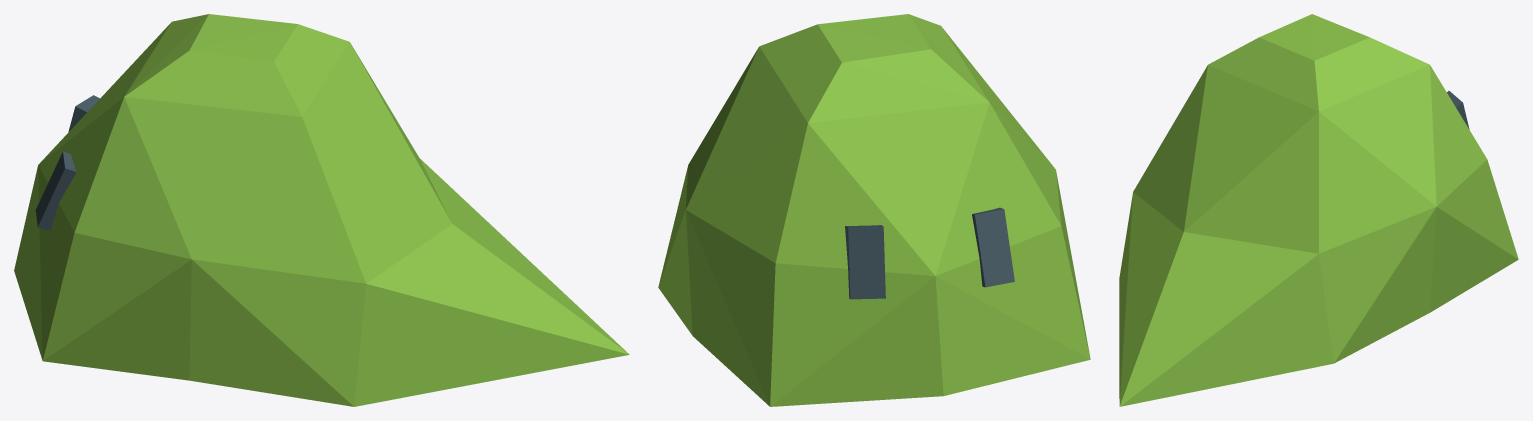
The model's file is slime.fbx.
3 renders of one model, left to right at view 1: azimuth 30°, elevation 25°; view 2: azimuth 150°, elevation 25°; view 3: azimuth 270°, elevation 25°, orthographic. The views are drawn at different scales.
Visible parts, largest first — view 1: mesh_1953088506, mesh_628414867; view 2: mesh_1953088506, mesh_675558110, mesh_628414867; view 3: mesh_1953088506.
Part boxes in pixels (left/top/right/bottom): mesh_1953088506: left=14, top=14, right=629, bottom=406; mesh_628414867: left=35, top=151, right=76, bottom=230; mesh_1953088506: left=658, top=14, right=1090, bottom=406; mesh_675558110: left=845, top=225, right=885, bottom=299; mesh_628414867: left=972, top=207, right=1014, bottom=287; mesh_1953088506: left=1119, top=14, right=1518, bottom=406.
Size of the model in its own units: 31.84 by 19.15 by 27.
